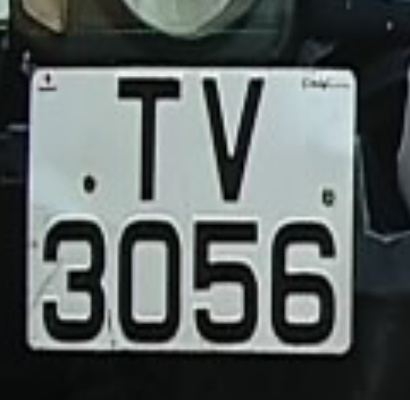0: (110, 211, 196, 353)
3: (31, 205, 115, 354)
5: (189, 212, 275, 353)
6: (259, 207, 341, 354)
T: (102, 66, 194, 210)
V: (191, 65, 280, 212)
